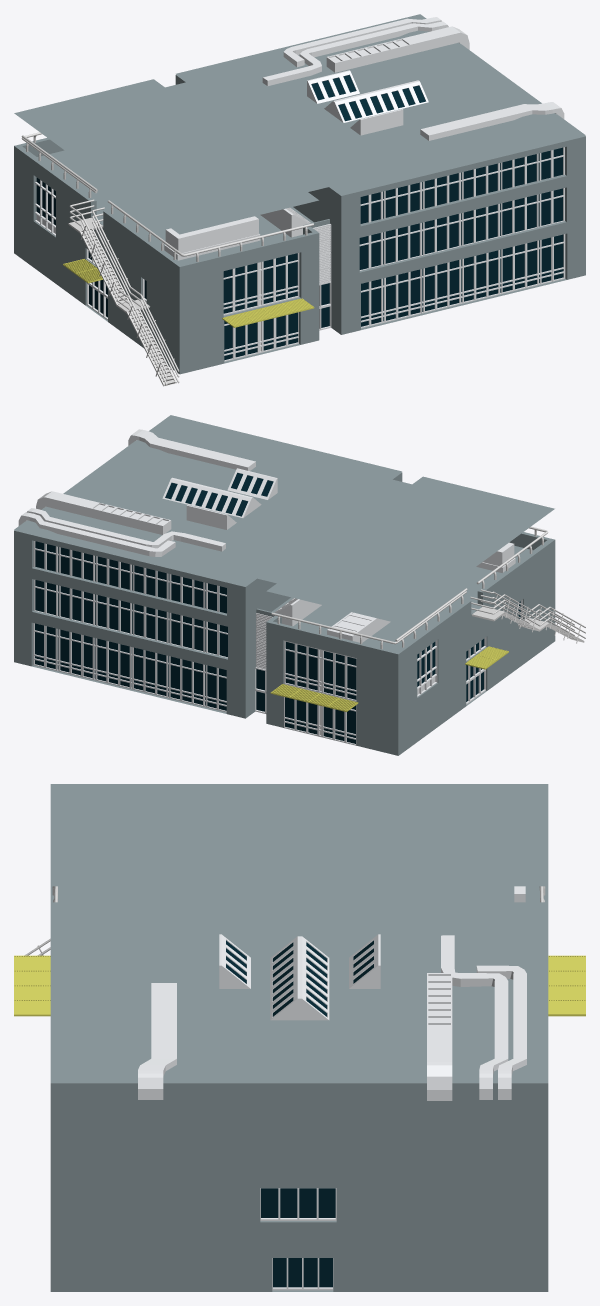
The picture shows the model from 3 angles, top to bottom: view 1: azimuth 30°, elevation 25°; view 2: azimuth 150°, elevation 25°; view 3: azimuth 270°, elevation 25°; orthographic projection. The views are drawn at different scales.
Visible parts, largest first — view 1: BASE EXTRA, 2.BLOCK, 3.BLOCK, 1.WINDOW, 3.UP, 2.WINDOW, 1.BLOCK, 3.WINDOWS, STAIRS, 3.FLOOR, 3.DOWN, 3.RAILS (+3 smaller); view 2: BASE EXTRA, 2.BLOCK, 3.BLOCK, 1.WINDOW, 3.UP, 1.BLOCK, 2.WINDOW, 3.WINDOWS, 3.FLOOR, 3.DOWN, STAIRS, 1.CELL (+2 smaller); view 3: BASE EXTRA, 3.BLOCK, 1.BLOCK, 2.BLOCK, 3.UP, 1.CELL, 1.CELL.001, 3.ROOF, 3.FLOOR, Plane.038, Plane.039, Plane.040 (+1 smaller).
Part boxes in pixels (<box>): BASE EXTRA: <box>14,14,585,234</box>; 2.BLOCK: <box>14,161,585,327</box>; 3.BLOCK: <box>14,75,585,281</box>; 1.WINDOW: <box>88,234,565,361</box>; 3.UP: <box>262,17,564,140</box>; 2.WINDOW: <box>35,177,564,315</box>; 1.BLOCK: <box>14,207,585,374</box>; 3.WINDOWS: <box>360,147,564,223</box>; STAIRS: <box>68,199,179,386</box>; 3.FLOOR: <box>37,150,313,263</box>; 3.DOWN: <box>164,207,310,260</box>; 3.RAILS: <box>21,132,313,261</box>; BASE EXTRA: <box>14,415,554,623</box>; 2.BLOCK: <box>14,554,555,711</box>; 3.BLOCK: <box>14,472,555,667</box>; 1.WINDOW: <box>33,623,485,745</box>; 3.UP: <box>18,429,277,556</box>; 1.BLOCK: <box>14,597,555,755</box>; 2.WINDOW: <box>34,579,486,701</box>; 3.WINDOWS: <box>33,541,226,613</box>; 3.FLOOR: <box>272,545,532,651</box>; 3.DOWN: <box>274,542,515,642</box>; STAIRS: <box>470,589,585,643</box>; 1.CELL: <box>270,646,508,711</box>; BASE EXTRA: <box>50,784,548,1081</box>; 3.BLOCK: <box>50,886,548,1152</box>; 1.BLOCK: <box>50,1221,548,1291</box>; 2.BLOCK: <box>50,1152,548,1222</box>; 3.UP: <box>138,934,526,1100</box>; 1.CELL: <box>548,955,585,1016</box>; 1.CELL.001: <box>14,955,50,1016</box>; 3.ROOF: <box>50,1081,548,1082</box>; 3.FLOOR: <box>58,886,539,902</box>; Plane.038: <box>279,1188,298,1220</box>; Plane.039: <box>260,1188,279,1220</box>; Plane.040: <box>298,1188,317,1220</box>.
Size of the model in its own units: 4035 by 1379 by 3035.
